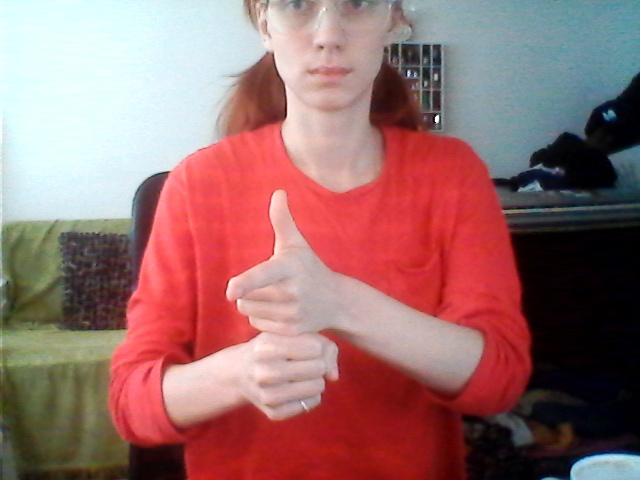kamera: (218, 184, 353, 432)
